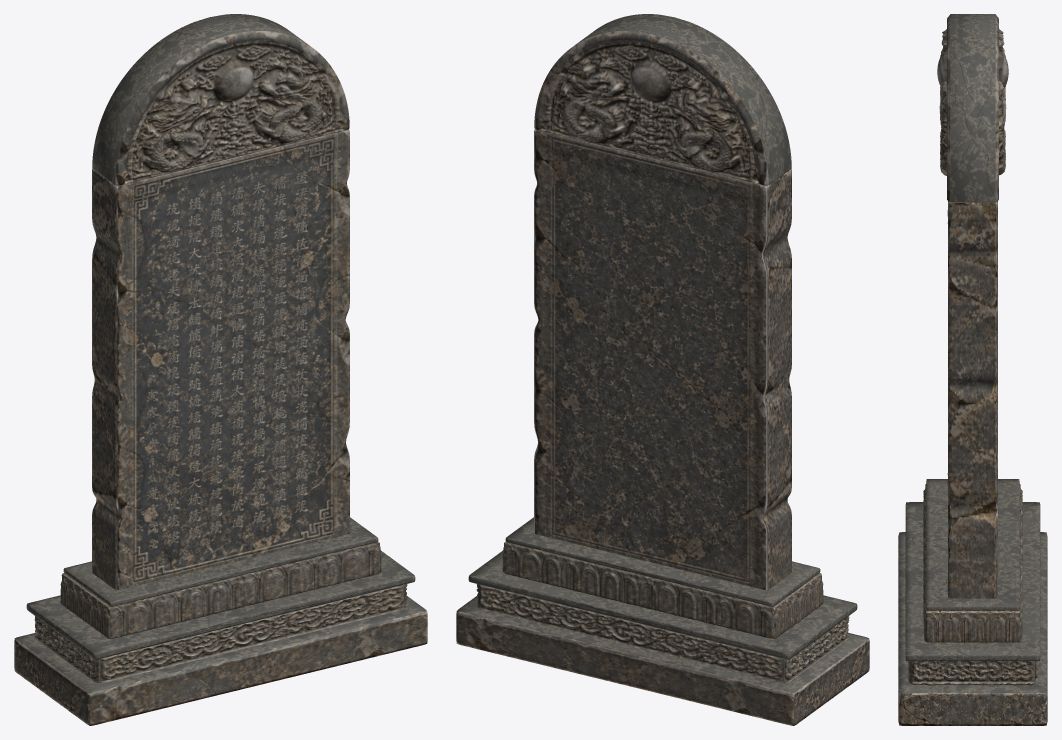
The model's file is stele-final.glb.
The picture shows the model from 3 angles, left to right: view 1: azimuth 30°, elevation 25°; view 2: azimuth 150°, elevation 25°; view 3: azimuth 270°, elevation 25°; orthographic projection. The views are drawn at different scales.
Visible parts, largest first — view 1: Stele_Final_SevenClosedVolumes; view 2: Stele_Final_SevenClosedVolumes; view 3: Stele_Final_SevenClosedVolumes.
Part boxes in pixels (<box>): Stele_Final_SevenClosedVolumes: <box>14,14,427,725</box>; Stele_Final_SevenClosedVolumes: <box>456,14,869,725</box>; Stele_Final_SevenClosedVolumes: <box>898,14,1047,725</box>.
Size of the model in its own units: 1.85 by 3.3 by 0.7209.
1 material, 1 textured.
